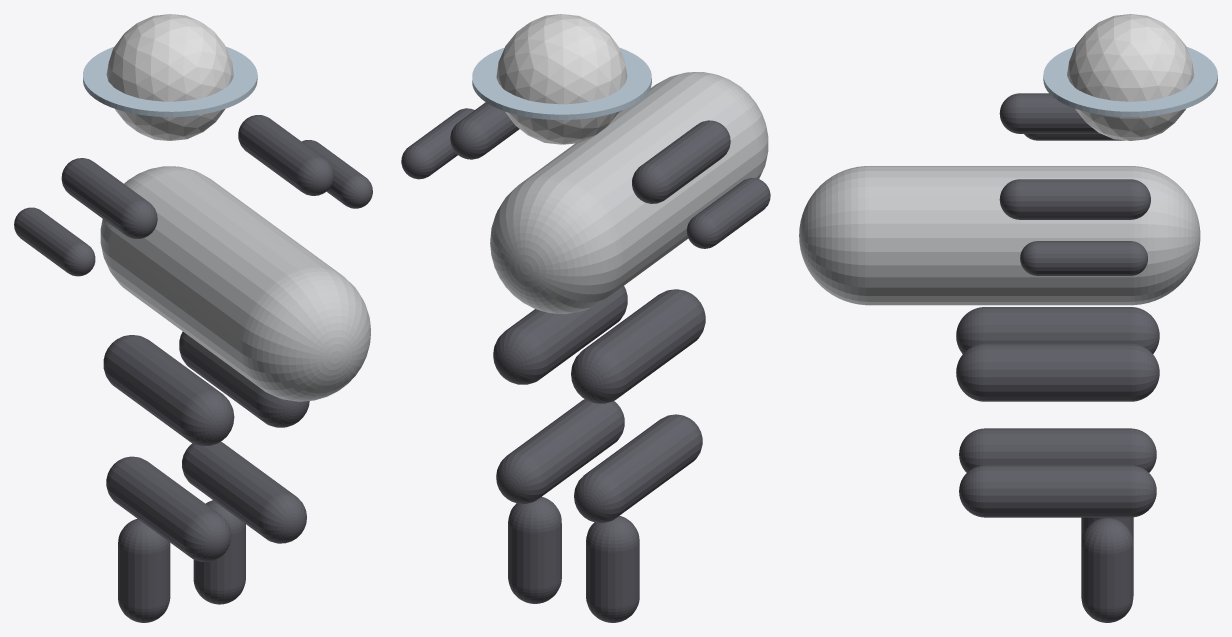
The model's file is chatgpt_avatar.glb.
3 views of the same model, side by side, from view 1: azimuth 30°, elevation 25°; view 2: azimuth 150°, elevation 25°; view 3: azimuth 270°, elevation 25° (orthographic). The views are drawn at different scales.
Visible parts, largest first — view 1: world; view 2: world; view 3: world.
Part boxes in pixels (box(x1,y1,x2,y2)): world: box(14, 14, 372, 622); world: box(401, 14, 770, 622); world: box(799, 14, 1217, 622).
Bounding box in the file's own units: 1.22 × 2.21 × 1.44.
